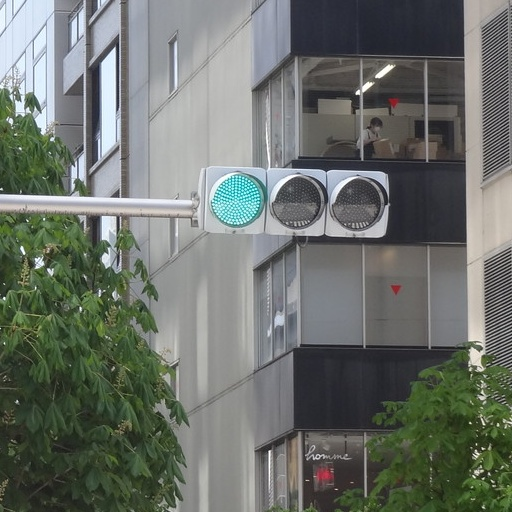Traffic_Signal_Blue: (201, 163, 394, 237)
